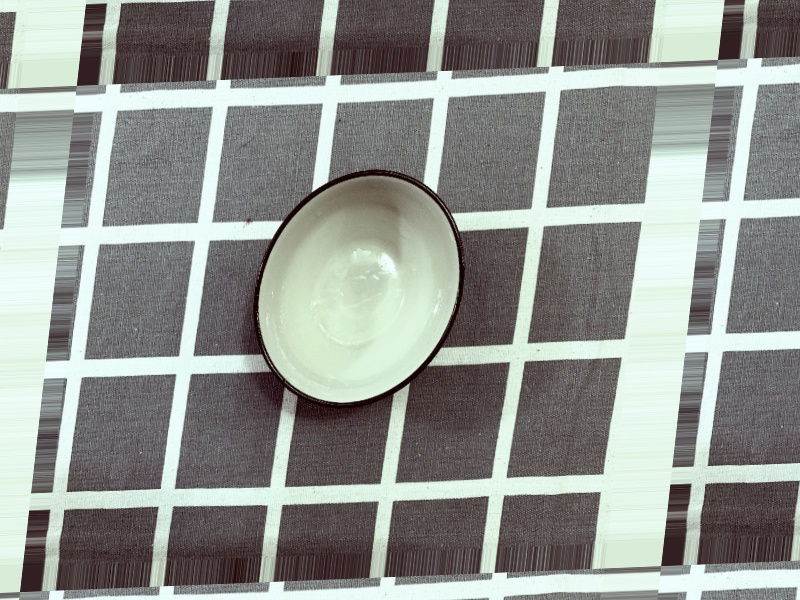bowl_small: (233, 160, 483, 419)
